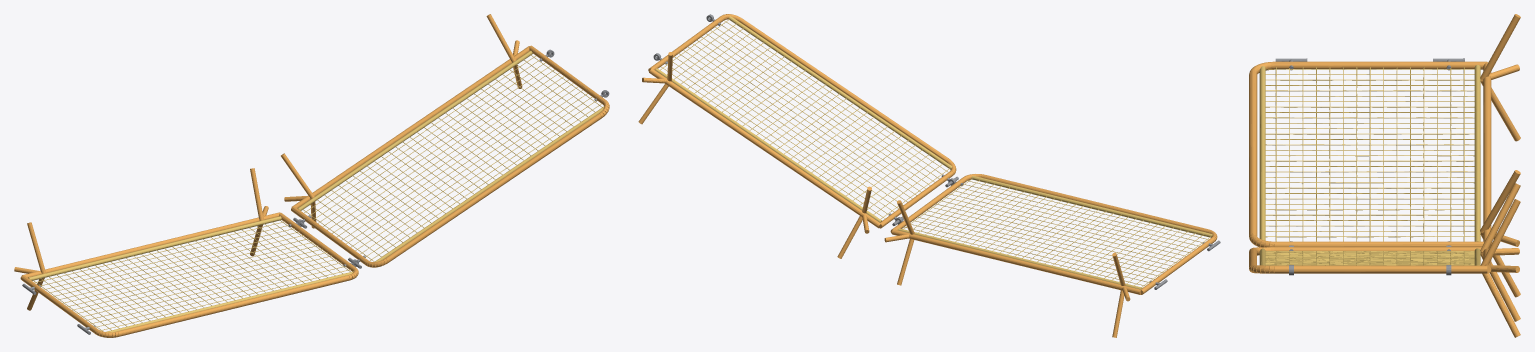
Rendered from material-panel_infill-polished-brass-infill.glb.
The picture shows the model from 3 angles, left to right: view 1: azimuth 30°, elevation 25°; view 2: azimuth 150°, elevation 25°; view 3: azimuth 270°, elevation 25°; orthographic projection. The views are drawn at different scales.
Visible parts, largest first — view 1: panel_0__infill, panel_0__frame, panel_0__eye_top; view 2: panel_0__infill, panel_0__frame, panel_0__eye_top; view 3: panel_0__infill, panel_0__frame, panel_0__eye_top.
Part boxes in pixels (x1,y1,x2,y2): panel_0__infill: (28, 50, 604, 332); panel_0__frame: (14, 14, 609, 337); panel_0__eye_top: (22, 49, 609, 334); panel_0__infill: (655, 16, 1212, 289); panel_0__frame: (638, 14, 1217, 337); panel_0__eye_top: (653, 14, 1220, 289); panel_0__infill: (1259, 65, 1480, 265); panel_0__frame: (1249, 14, 1520, 337); panel_0__eye_top: (1275, 58, 1464, 275).
Size of the model in its own units: 4.09 by 1.37 by 1.28.
